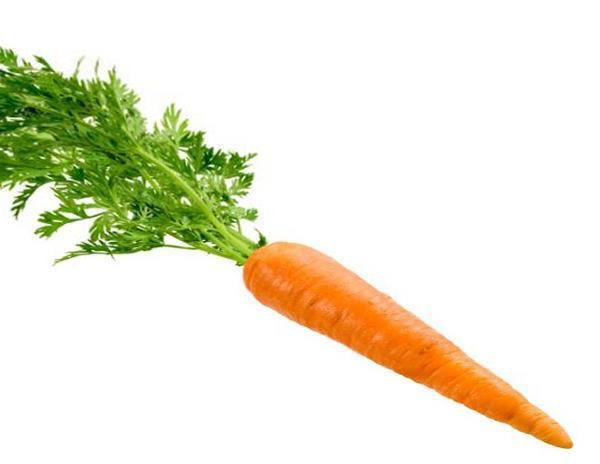carrot: (120, 171, 594, 454)
